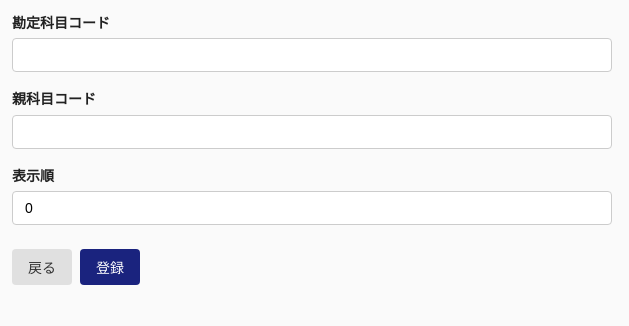
Test: CreateAccountStructureForm › 勘定科目コードが空の場合バリデーションエラーを表示する
This screenshot has width=629, height=326.
What coordinates should you click on to do the following:
click the button "登録"
I would click on:
 (110, 267)
Its box is [80,249,140,285].
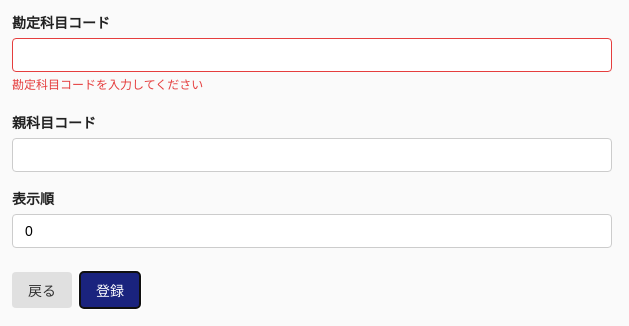
Expected: the text "勘定科目コードを入力してください" is shown, [12,78,203,92]
